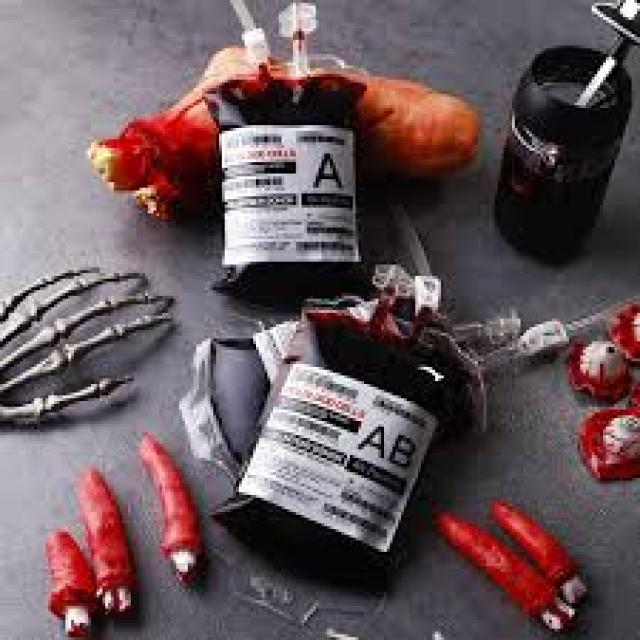B3: (224, 274, 462, 630), (193, 42, 394, 305)
